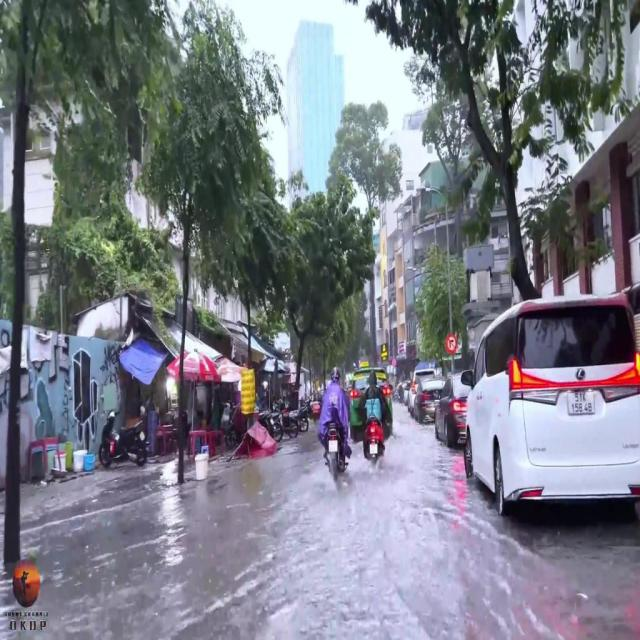cam_re_phai: (444, 330, 459, 352)
